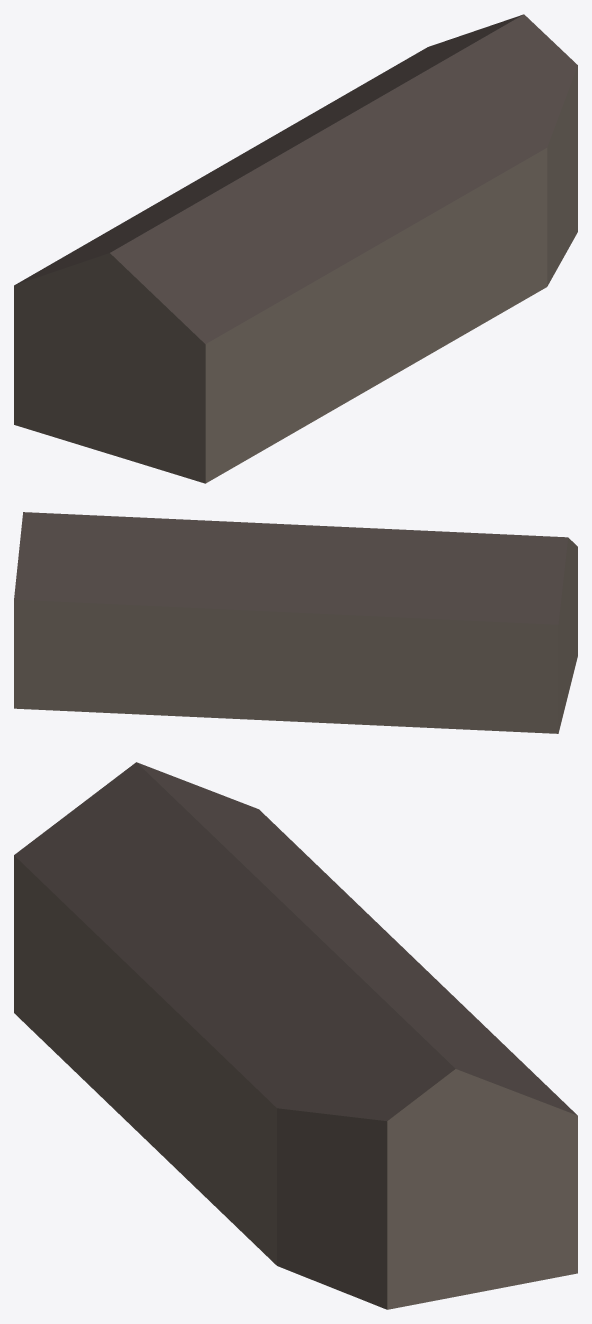
The picture shows the model from 3 angles, top to bottom: view 1: azimuth 30°, elevation 25°; view 2: azimuth 150°, elevation 25°; view 3: azimuth 270°, elevation 25°; orthographic projection. The views are drawn at different scales.
Parts seen in each view (by area): view 1: HP-w373833612; view 2: HP-w373833612; view 3: HP-w373833612.
Boxes of the visible parts, left/top/right/bottom form: HP-w373833612: left=14, top=14, right=577, bottom=483; HP-w373833612: left=14, top=512, right=577, bottom=733; HP-w373833612: left=14, top=762, right=577, bottom=1309.
Bounding box in the file's own units: 27.98 × 8.67 × 19.45.
